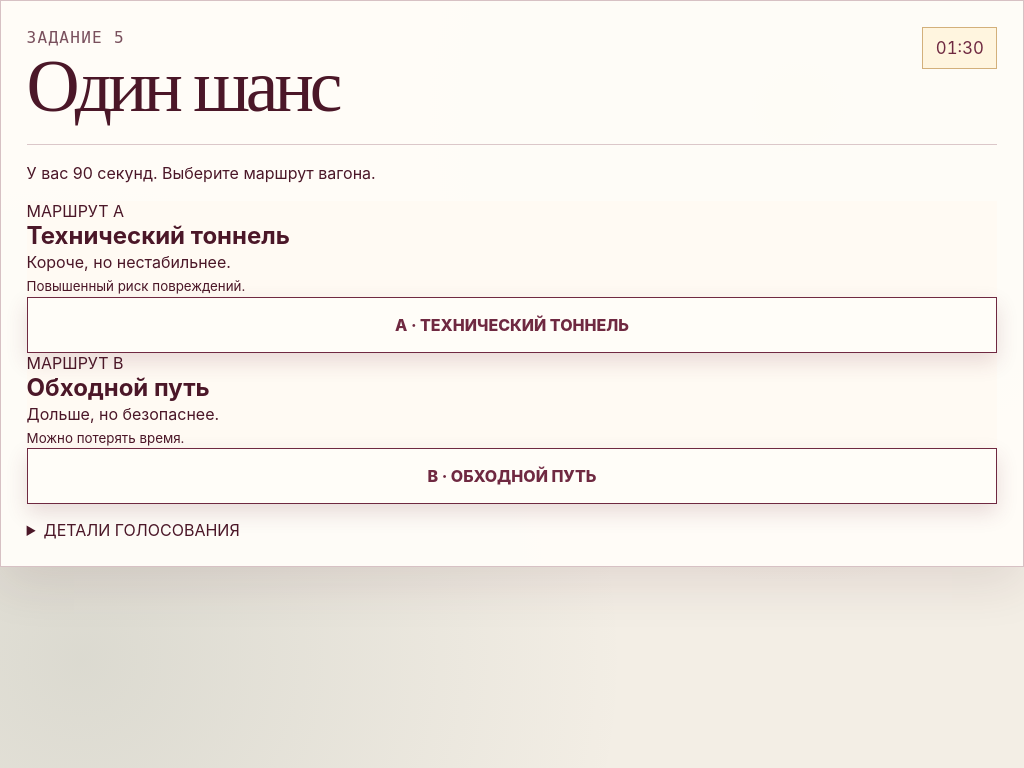
Test: MissionFivePlayer › restores both routes and shows retry guidance when the vote is rejected
Click the button "B · ОБХОДНОЙ ПУТЬ" at (512, 476), box [27,448,997,504]
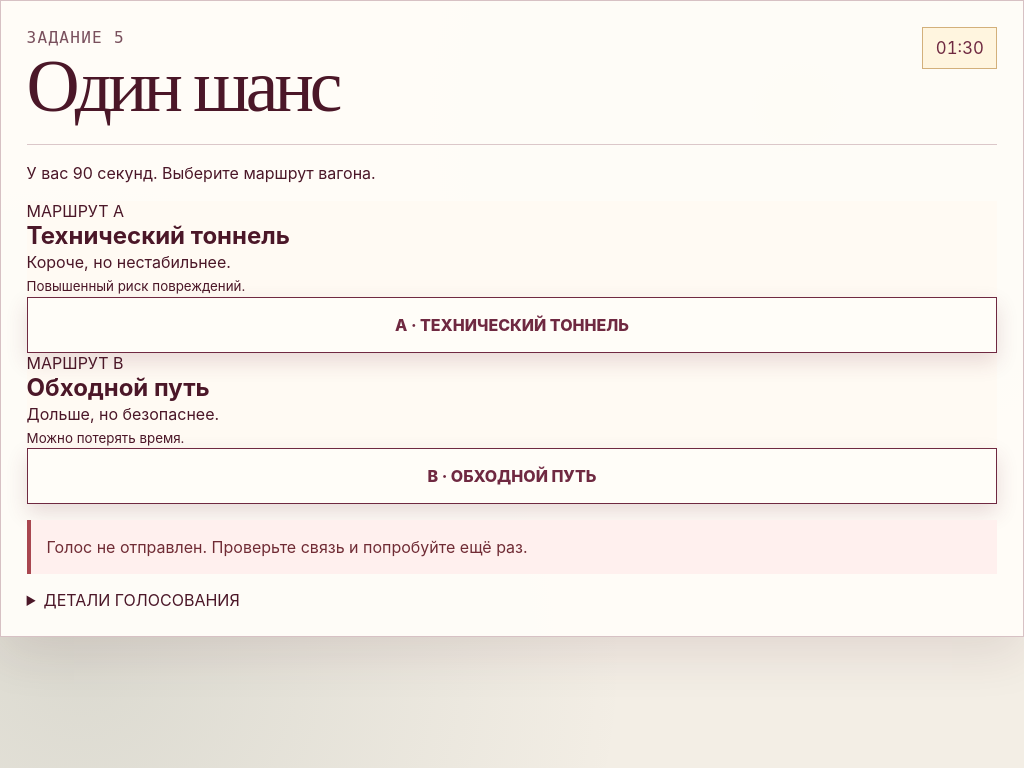
Expected: the button "A · ТЕХНИЧЕСКИЙ ТОННЕЛЬ" is enabled, [27,297,997,353]
Now the message reads "Голос не отправлен. Проверьте связь и попробуйте ещё раз.", box [47,537,528,557]
